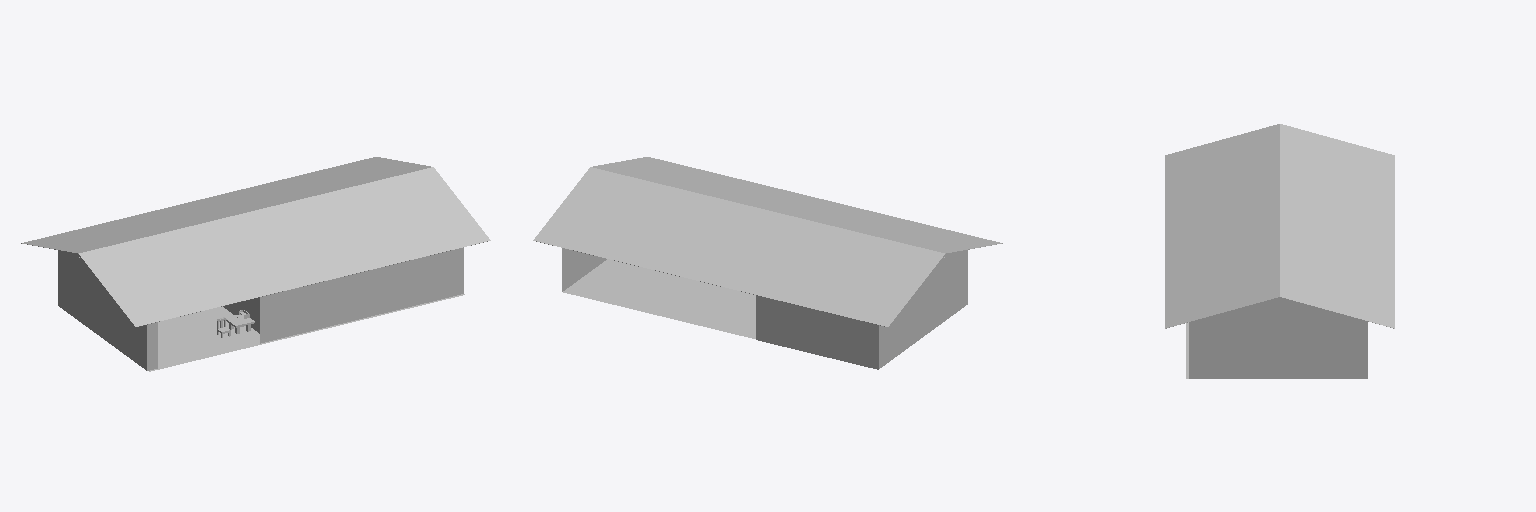
File: Placeholder NPC scene.obj
3 renders of one model, left to right at view 1: azimuth 30°, elevation 25°; view 2: azimuth 150°, elevation 25°; view 3: azimuth 270°, elevation 25°, orthographic.
Visible parts, largest first — view 1: pPlane2, Placeholder_NPC_scene_pCube7; view 2: pPlane2; view 3: pPlane2.
Boxes of the visible parts, x1=… form: pPlane2: x1=21, y1=157, x2=490, y2=371; Placeholder_NPC_scene_pCube7: x1=217, y1=310, x2=254, y2=337; pPlane2: x1=533, y1=157, x2=1002, y2=369; pPlane2: x1=1165, y1=124, x2=1394, y2=378.
Bounding box in the file's own units: 89.02 × 21.9 × 49.81.